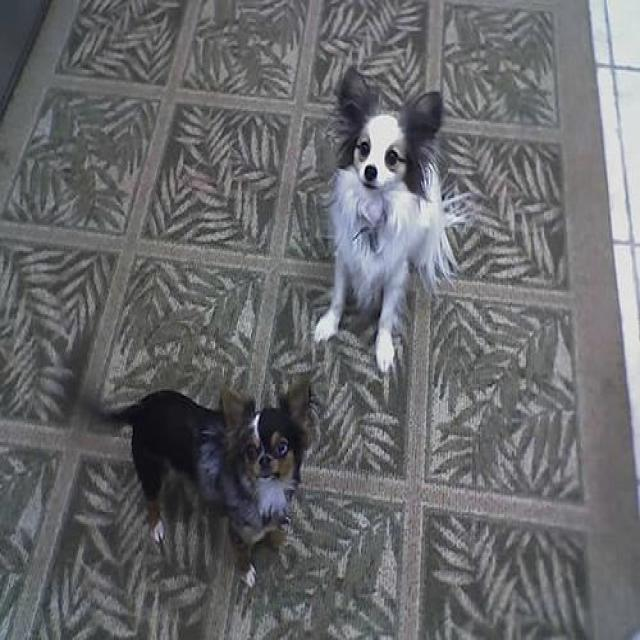papillon: (78, 382, 316, 590), (312, 64, 469, 374)
